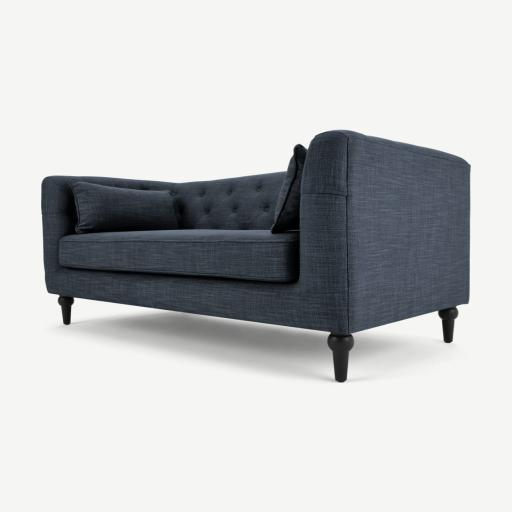back_cushion: (81, 173, 285, 230)
base: (50, 268, 342, 332)
left_arm: (341, 135, 469, 332)
legs: (328, 333, 353, 382), (438, 307, 458, 343), (58, 297, 73, 324)
one-seater: (42, 130, 470, 381)
right_arm: (42, 177, 76, 287), (91, 178, 149, 186)
seat_cushion: (59, 229, 299, 282)
